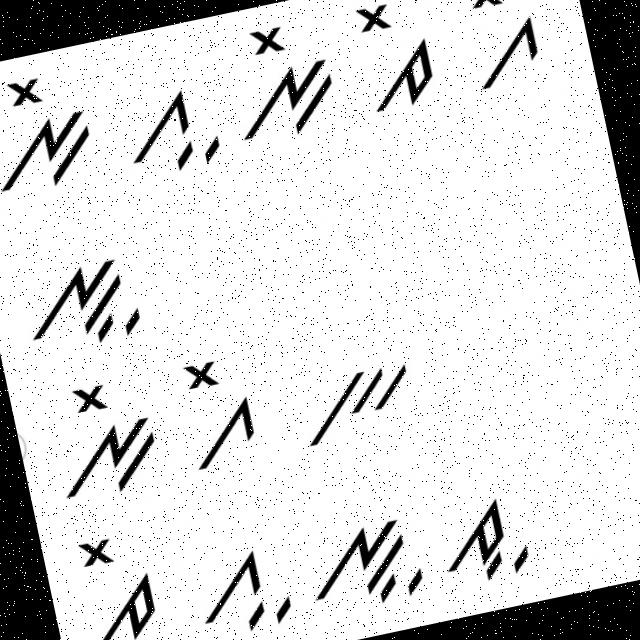gah: (177, 529, 311, 639), (114, 76, 233, 196)
go: (168, 334, 281, 476), (451, 0, 561, 103)
ngah: (9, 239, 152, 368), (296, 503, 434, 628)
ngo: (38, 364, 174, 512), (218, 13, 353, 148), (0, 55, 108, 206)
tah: (430, 490, 543, 590)
to: (335, 0, 462, 132), (71, 524, 174, 639)
